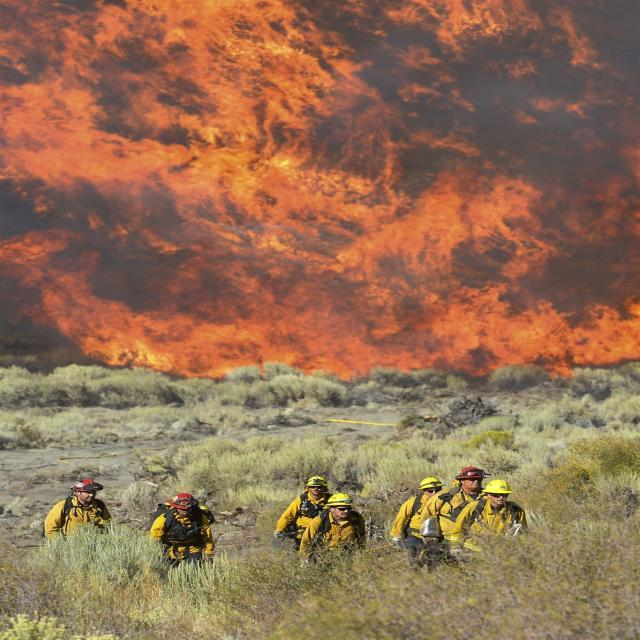Fire: (7, 0, 640, 373)
